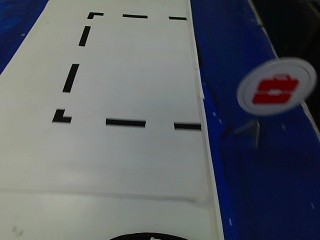company: (242, 60, 309, 113)
